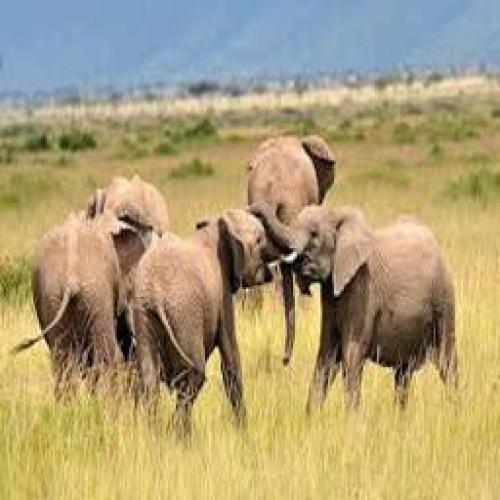african_elephant-endangered: (244, 200, 461, 416), (122, 201, 296, 440), (12, 168, 172, 410), (243, 130, 332, 370)
